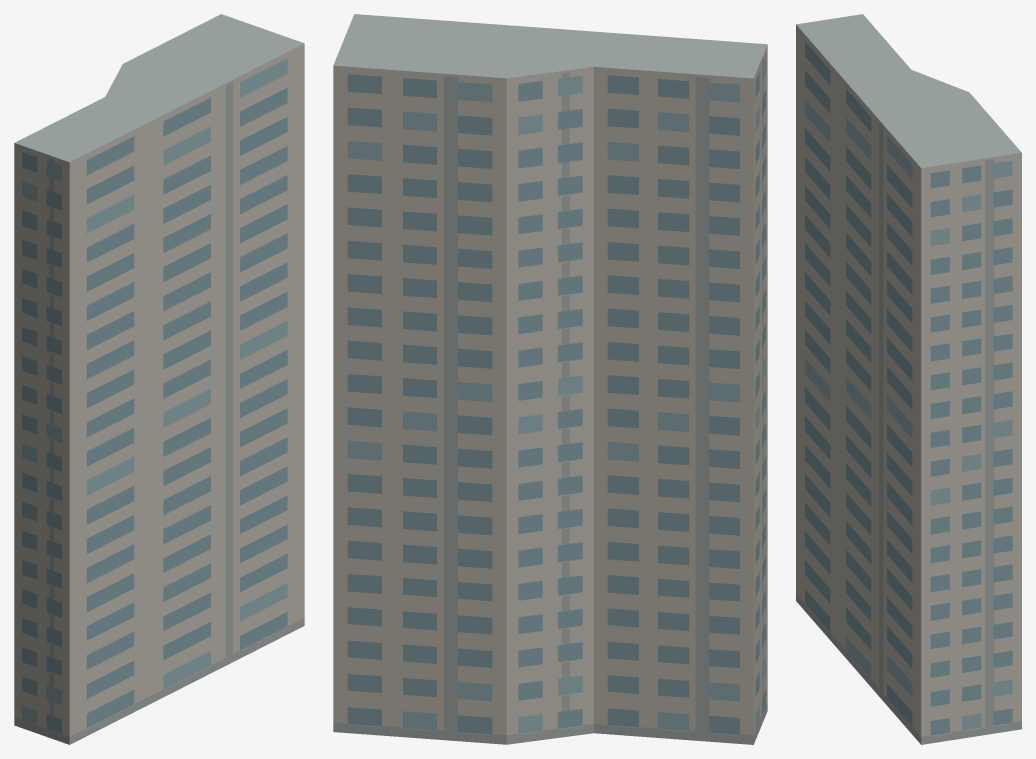
File: residential-a01a6907-3b79-427d-adc6-1e8901250fa5.glb
The picture shows the model from 3 angles, left to right: view 1: azimuth 30°, elevation 25°; view 2: azimuth 150°, elevation 25°; view 3: azimuth 270°, elevation 25°; orthographic projection. The views are drawn at different scales.
Visible parts, largest first — view 1: residential-a01a6907-3b79-427d-adc6-1e8901250fa5.tmp; view 2: residential-a01a6907-3b79-427d-adc6-1e8901250fa5.tmp; view 3: residential-a01a6907-3b79-427d-adc6-1e8901250fa5.tmp.
Boxes of the visible parts, <box> form: residential-a01a6907-3b79-427d-adc6-1e8901250fa5.tmp: <box>14,14,304,744</box>; residential-a01a6907-3b79-427d-adc6-1e8901250fa5.tmp: <box>333,14,767,744</box>; residential-a01a6907-3b79-427d-adc6-1e8901250fa5.tmp: <box>796,14,1021,744</box>.
Size of the model in its own units: 36.18 by 63 by 22.38.
